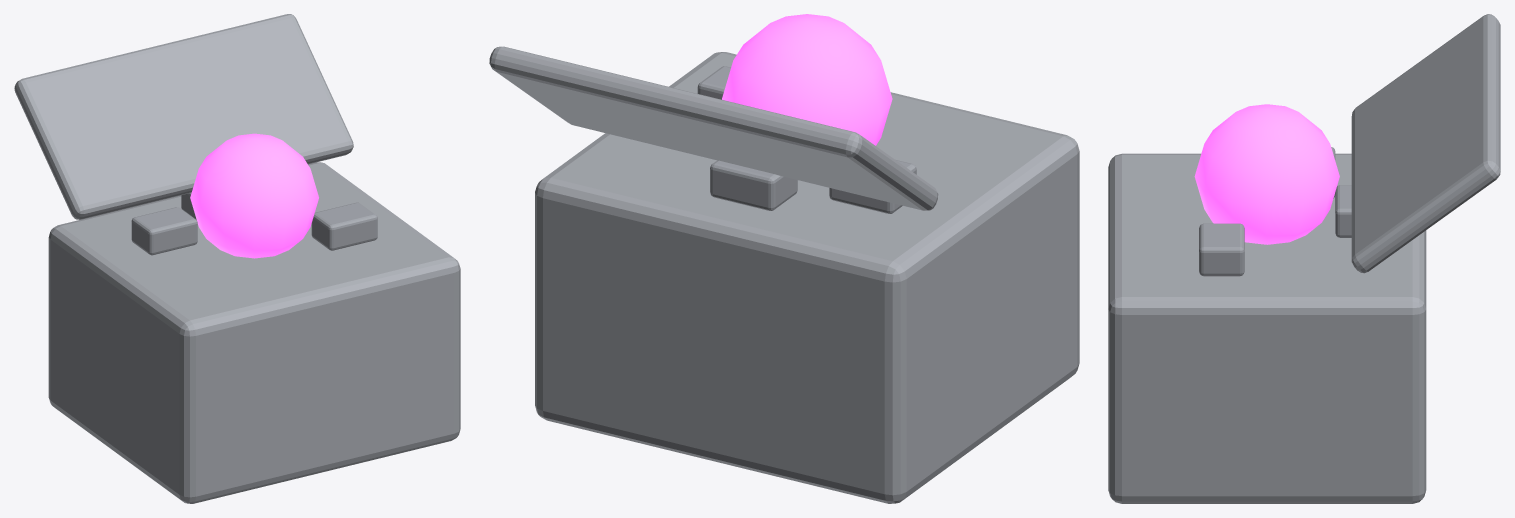
Rendered from cargo_crate_open_loot.glb.
The picture shows the model from 3 angles, left to right: view 1: azimuth 30°, elevation 25°; view 2: azimuth 150°, elevation 25°; view 3: azimuth 270°, elevation 25°; orthographic projection. The views are drawn at different scales.
Visible parts, largest first — view 1: GD_cargo_crate_open_loot__m0, GD_cargo_crate_open_loot__m1, GD_cargo_crate_open_loot__m2; view 2: GD_cargo_crate_open_loot__m0, GD_cargo_crate_open_loot__m1, GD_cargo_crate_open_loot__m2; view 3: GD_cargo_crate_open_loot__m0, GD_cargo_crate_open_loot__m1, GD_cargo_crate_open_loot__m2.
Part boxes in pixels (x1,y1,x2,y2): GD_cargo_crate_open_loot__m0: (14, 14, 460, 503); GD_cargo_crate_open_loot__m1: (190, 133, 318, 258); GD_cargo_crate_open_loot__m2: (131, 192, 377, 255); GD_cargo_crate_open_loot__m0: (489, 46, 1079, 503); GD_cargo_crate_open_loot__m1: (722, 14, 892, 145); GD_cargo_crate_open_loot__m2: (697, 66, 916, 213); GD_cargo_crate_open_loot__m0: (1108, 14, 1500, 503); GD_cargo_crate_open_loot__m1: (1194, 104, 1339, 244); GD_cargo_crate_open_loot__m2: (1199, 147, 1351, 276).
Size of the model in its own units: 0.8 by 0.8356 by 0.8639.
